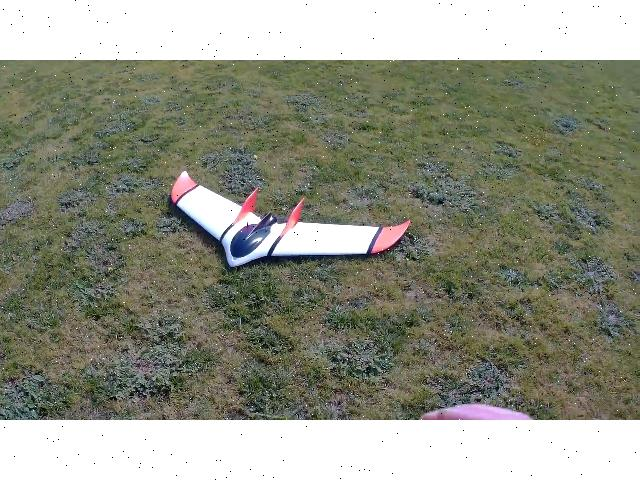Anti-Drone: (138, 149, 414, 275)
